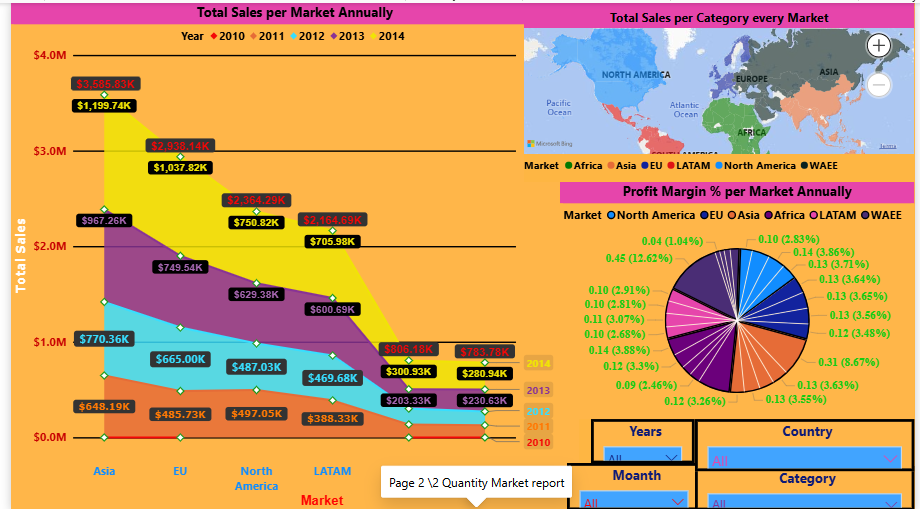

This screenshot's page, from the dashboard's own definition file:
{"tool":"powerbi","page":{"name":"Page 4 \\1 Sales Market report 1","canvas":[1280,720],"ordinal":4},"visuals":[{"type":"stackedAreaChart","title":"Total Sales per Market  Annually","fields":{"Category":["Dim_Customer.Market"],"Series":["Dim_Date.Year"],"Y":["fact table Global _ Superstore _ Cleaned.Total Sales"]},"box":[0,0,805.2,719.8],"z":0},{"type":"filledMap","title":"Total Sales per Category  every Market ","fields":{"Category":["Dim_Customer.Country"],"Series":["Dim_Customer.Market"]},"box":[726.7,0,553.3,253.2],"z":1000},{"type":"slicer","title":"Years ","fields":{"Values":["Dim_Date.Year"]},"box":[821.7,589.1,146.9,63.4],"z":2000},{"type":"slicer","title":"Moanth","fields":{"Values":["Dim_Date.Month Name","Dim_Date.Month"]},"box":[788.6,652.4,189.9,67.4],"z":3000},{"type":"slicer","title":"Category","fields":{"Values":["Dim_Product.Category"]},"box":[968.9,656.5,311.1,63.3],"z":4000},{"type":"slicer","title":"Country","fields":{"Values":["Dim_Customer.Country"]},"box":[968.9,589.1,311.1,74.3],"z":5000},{"type":"pieChart","title":"Profit Margin % per Market Annually","fields":{"Category":["Dim_Customer.Market"],"Series":["Dim_Date.Year"],"Y":["fact table Global _ Superstore _ Cleaned.Profit Margin %"]},"box":[777.6,253.2,502.4,335.8],"z":6001}]}

Visuals, with their boxes in screenshot pixels (x1, y1, x2, y2), scaled from the page's 1280x720 canvas onto the 920x509 screenshot:
"Total Sales per Market  Annually" stackedAreaChart: {"x1": 0, "y1": 0, "x2": 579, "y2": 508}
"Total Sales per Category  every Market " filledMap: {"x1": 522, "y1": 0, "x2": 919, "y2": 179}
"Years " slicer: {"x1": 591, "y1": 416, "x2": 696, "y2": 461}
"Moanth" slicer: {"x1": 567, "y1": 461, "x2": 703, "y2": 508}
"Category" slicer: {"x1": 696, "y1": 464, "x2": 919, "y2": 508}
"Country" slicer: {"x1": 696, "y1": 416, "x2": 919, "y2": 469}
"Profit Margin % per Market Annually" pieChart: {"x1": 559, "y1": 179, "x2": 919, "y2": 416}
